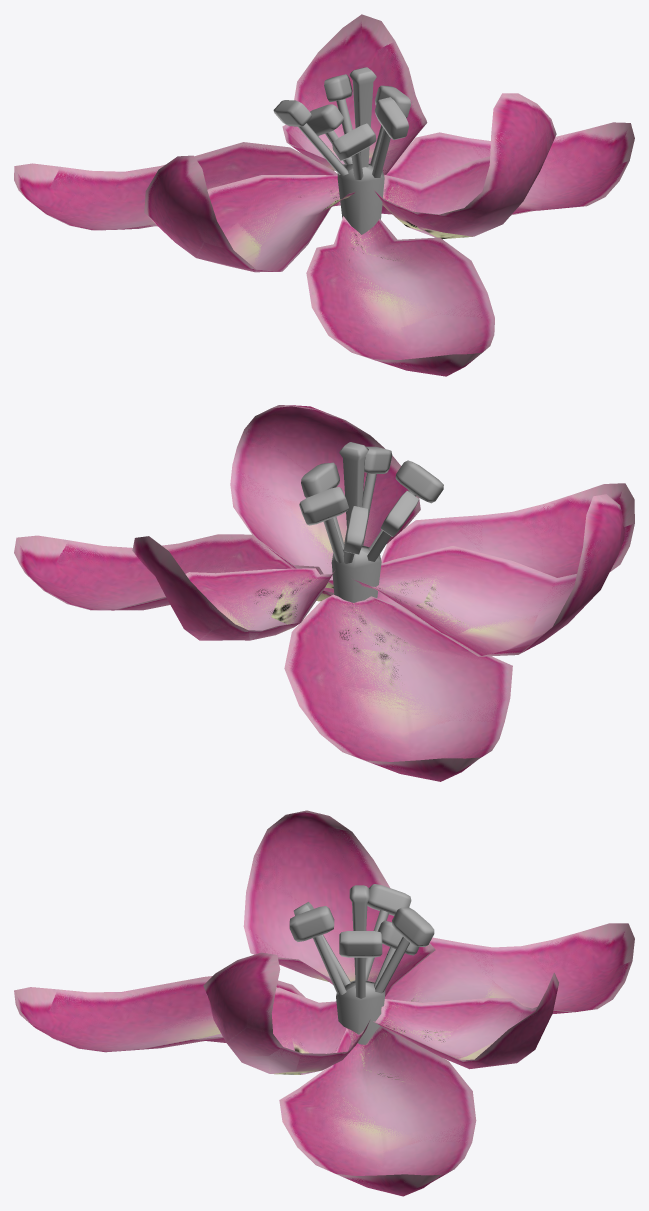
File: lily.fbx
The picture shows the model from 3 angles, top to bottom: view 1: azimuth 30°, elevation 25°; view 2: azimuth 150°, elevation 25°; view 3: azimuth 270°, elevation 25°; orthographic projection. The views are drawn at different scales.
Visible parts, largest first — view 1: Petals, UpperPetals, Anther, Stem, Stigma; view 2: Petals, UpperPetals, Anther, Stem, Stigma; view 3: Petals, UpperPetals, Anther, Stem, Stigma.
Part boxes in pixels (<box>): Petals: <box>14,122,634,376</box>; UpperPetals: <box>144,14,556,272</box>; Anther: <box>273,74,410,179</box>; Stem: <box>337,163,384,234</box>; Stigma: <box>349,67,376,167</box>; Petals: <box>14,483,634,781</box>; UpperPetals: <box>132,405,624,656</box>; Anther: <box>299,446,443,563</box>; Stem: <box>331,545,381,602</box>; Stigma: <box>339,442,368,527</box>; Petals: <box>14,923,634,1196</box>; UpperPetals: <box>203,810,558,1074</box>; Anther: <box>289,884,434,998</box>; Stem: <box>336,980,385,1044</box>; Stigma: <box>349,885,369,987</box>.
Size of the model in its own units: 8.48 by 3.66 by 8.68.
